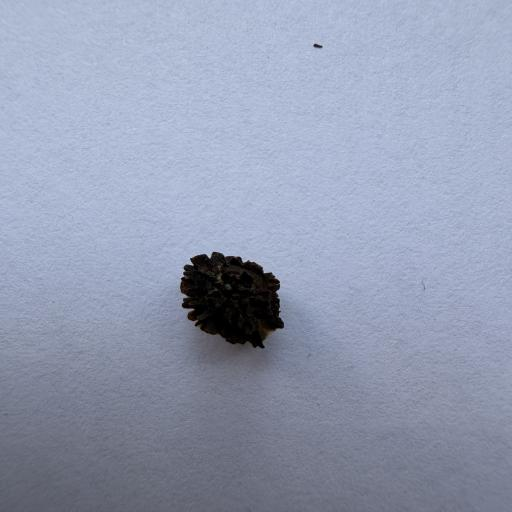papaya_seed: (173, 245, 303, 352)
